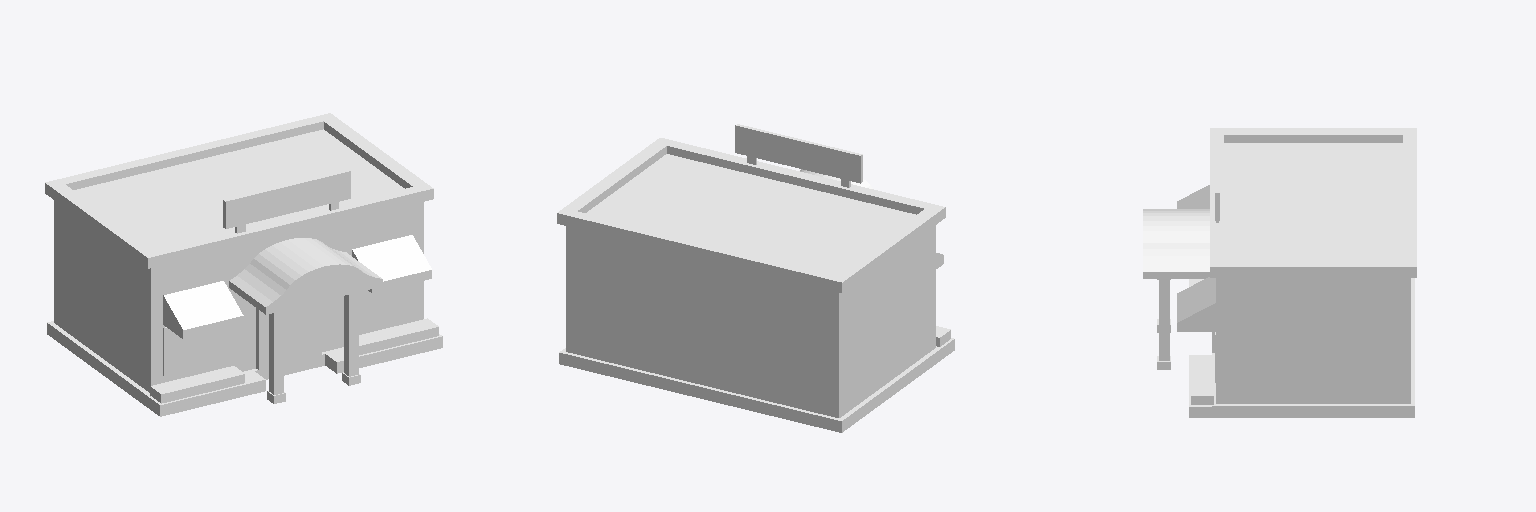
The model's file is Building_Bakery.obj.
The picture shows the model from 3 angles: view 1: azimuth 30°, elevation 25°; view 2: azimuth 150°, elevation 25°; view 3: azimuth 270°, elevation 25°; orthographic projection.
Bounding box in the file's own units: 1359 × 848 × 1128.